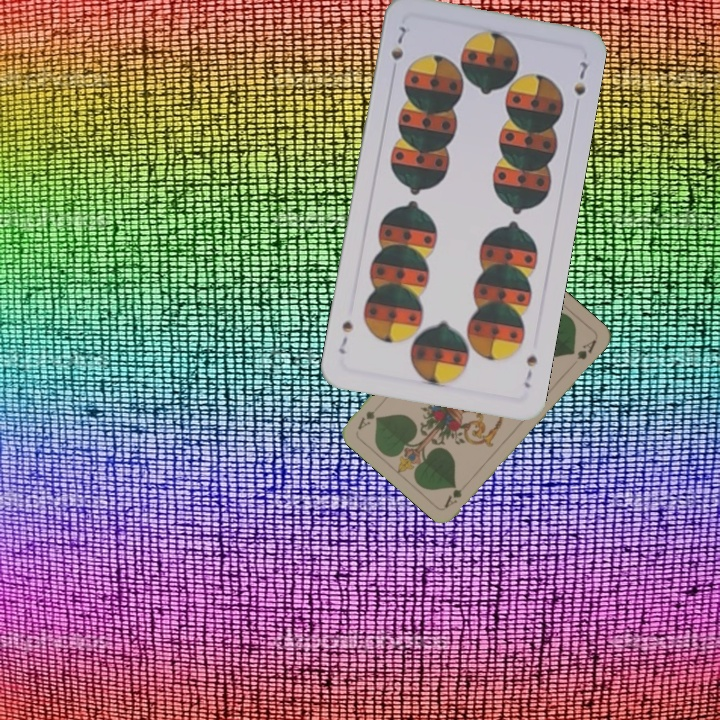GA: (440, 476, 471, 510)
S7: (387, 22, 413, 63), (520, 351, 540, 391)
